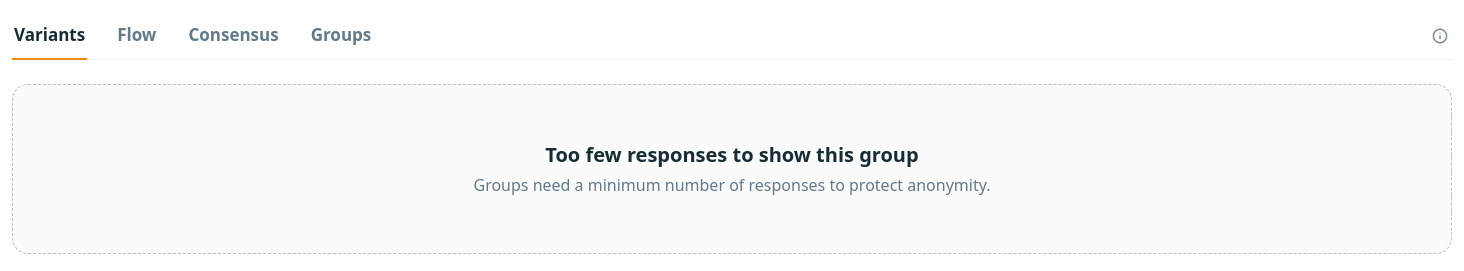
suppressed analytics (filtered view below k_min) › does not hide the Groups tab
Click the tab with test id "tab-groups" at (341, 36), box [309,12,373,60]
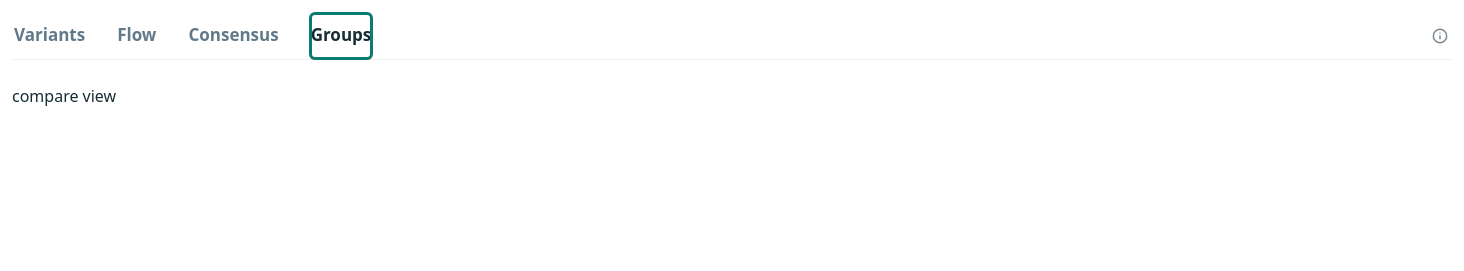
Result: the text "compare view" is shown at [12,85,116,107]
Result: the element with test id "suppressed" is gone
